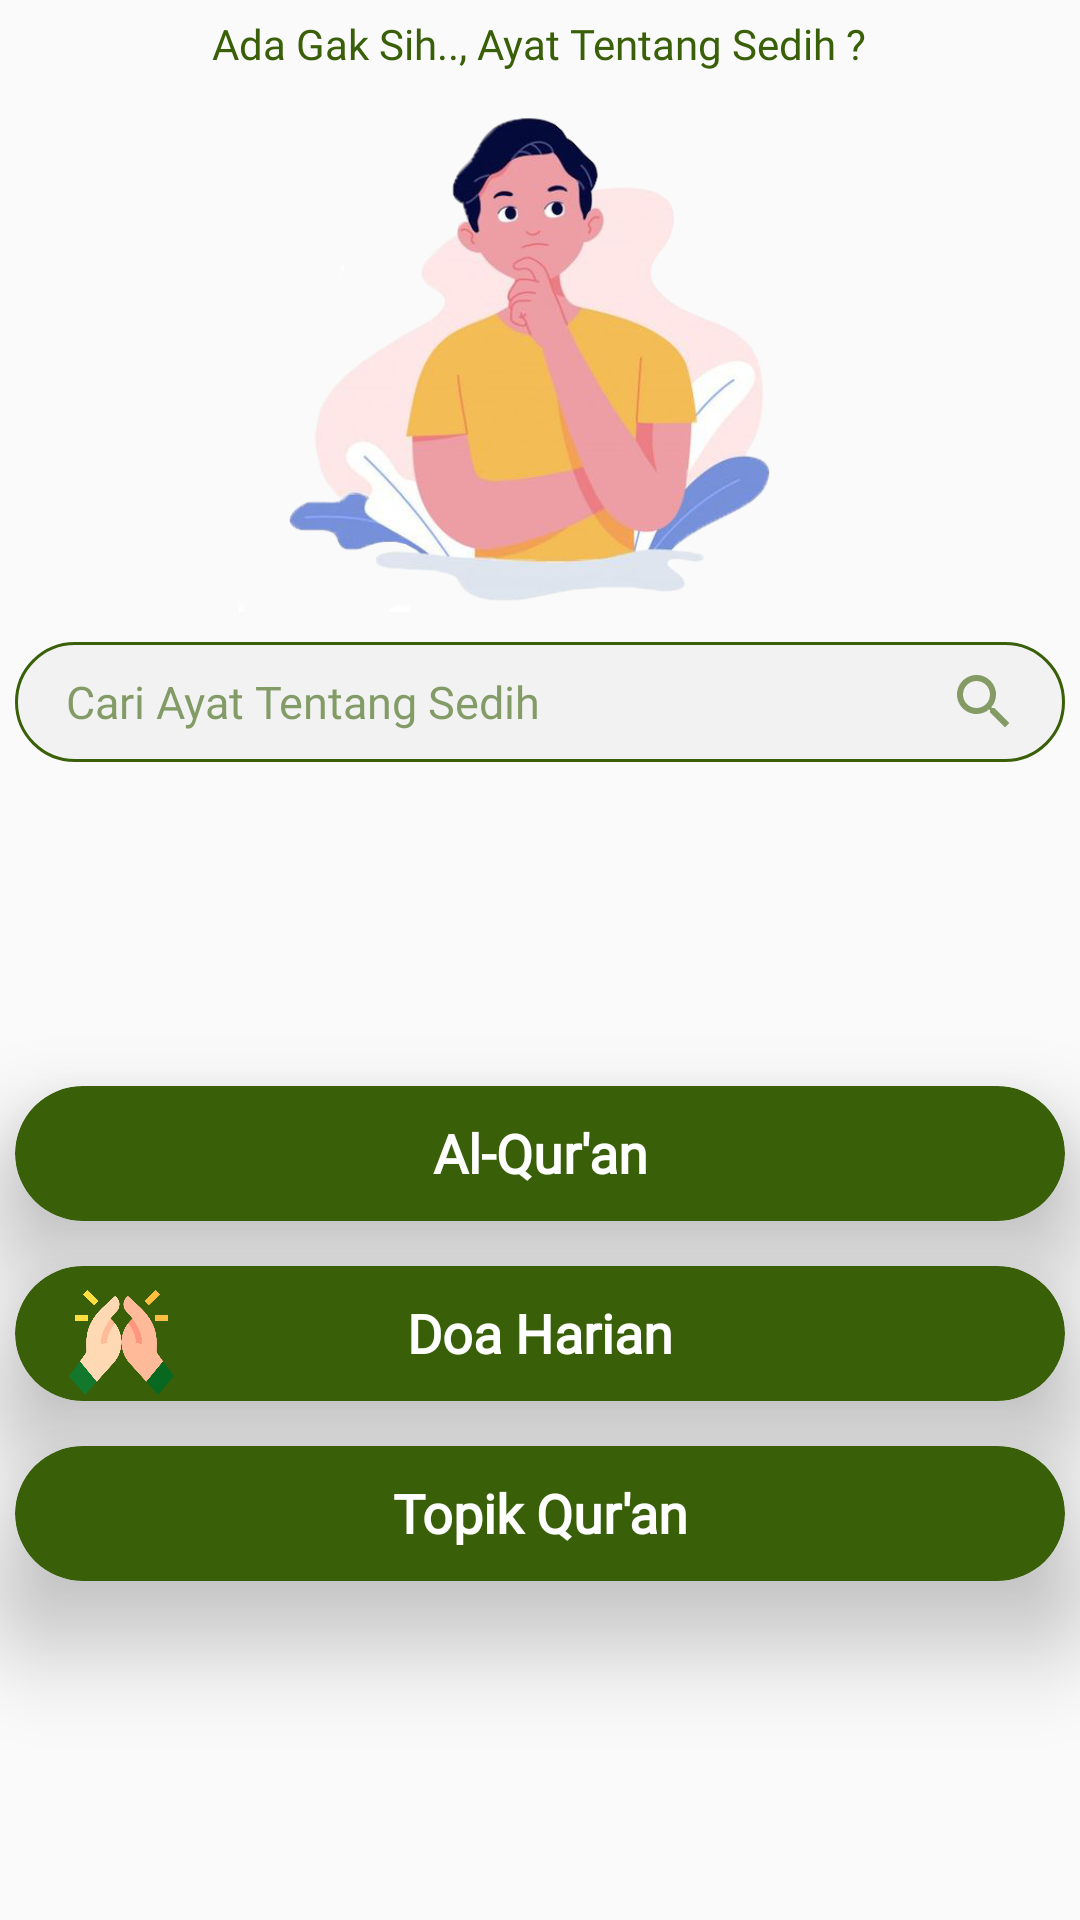

Named icons in this screenshot (1080px×1920px) and their bounding boxes, rect(x1, y1, x2, y2):
praying: rect(69, 1290, 174, 1395)
